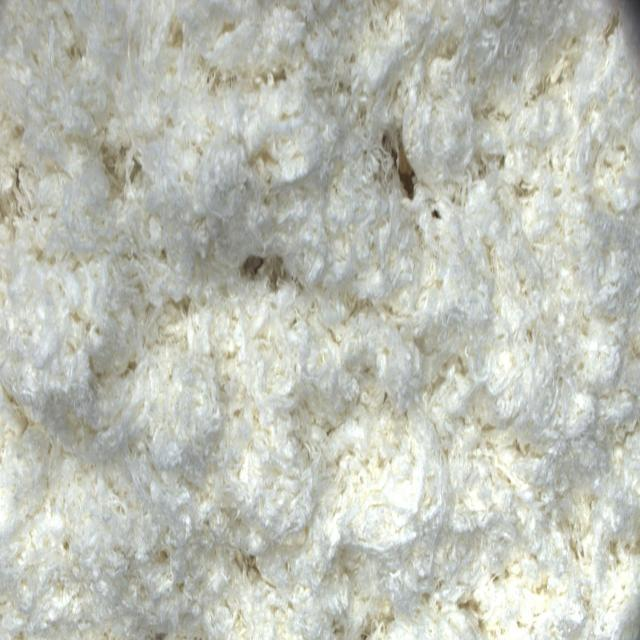dust: (378, 123, 419, 206)
